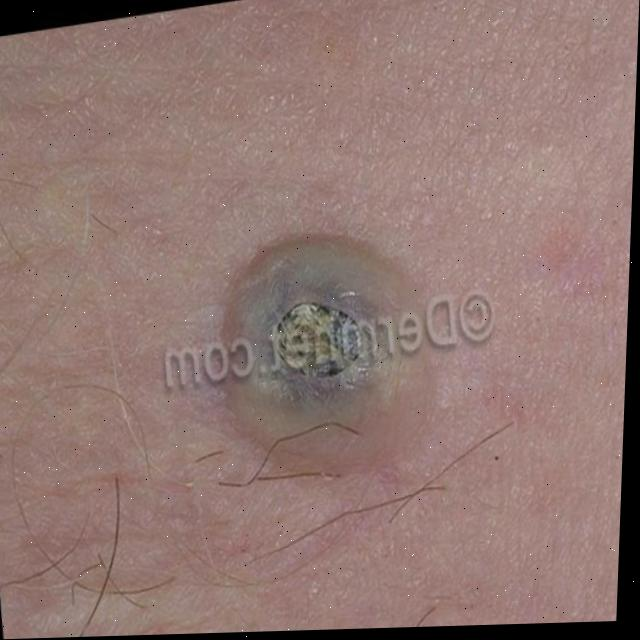Eczema: (260, 258, 390, 422)
